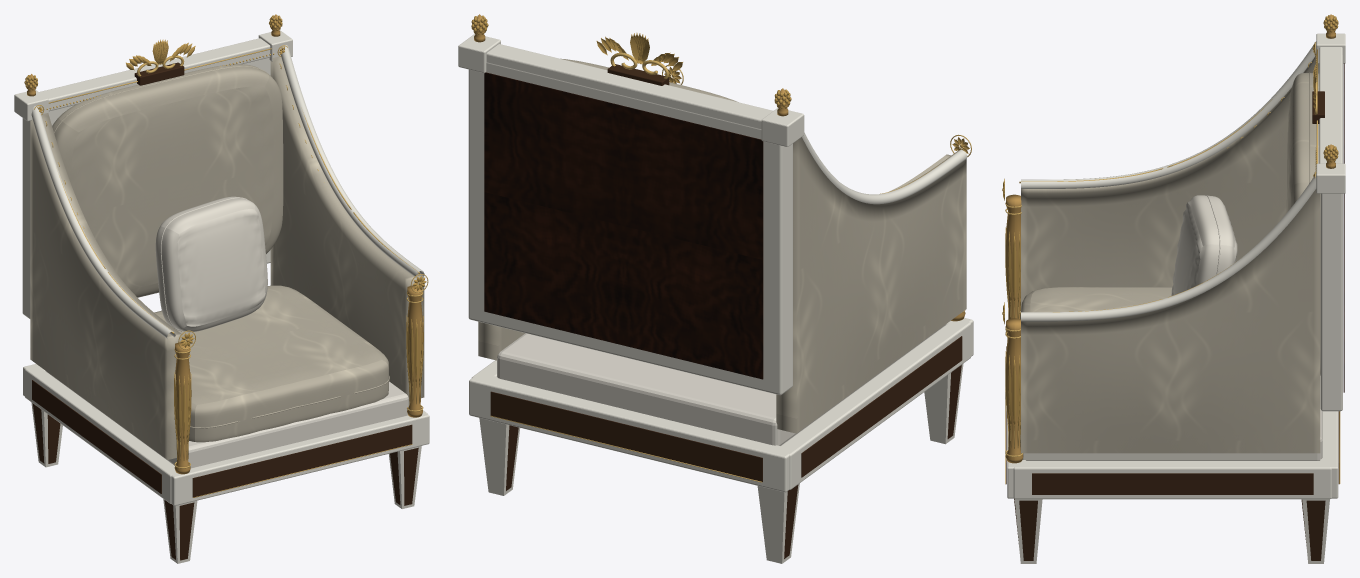
The picture shows the model from 3 angles, left to right: view 1: azimuth 30°, elevation 25°; view 2: azimuth 150°, elevation 25°; view 3: azimuth 270°, elevation 25°; orthographic projection. The views are drawn at different scales.
Parts seen in each view (by area): view 1: Belgravia armchair | 50038.0 | living-5 web batch; view 2: Belgravia armchair | 50038.0 | living-5 web batch; view 3: Belgravia armchair | 50038.0 | living-5 web batch.
Boxes of the visible parts, x1=… form: Belgravia armchair | 50038.0 | living-5 web batch: x1=14, y1=14, x2=429, y2=563; Belgravia armchair | 50038.0 | living-5 web batch: x1=458, y1=14, x2=973, y2=563; Belgravia armchair | 50038.0 | living-5 web batch: x1=1002, y1=14, x2=1345, y2=563.
Size of the model in its own units: 0.78 by 1.11 by 0.8.
Materials: 9 (2 with a texture image).
